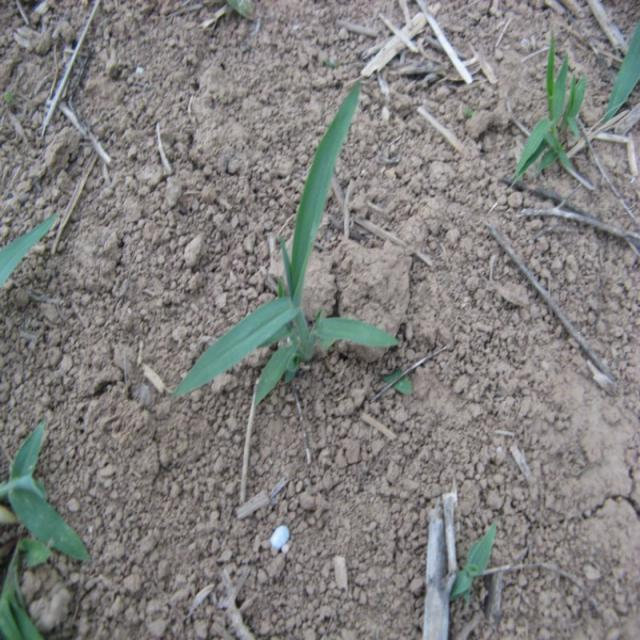bg: (180, 73, 421, 420)
